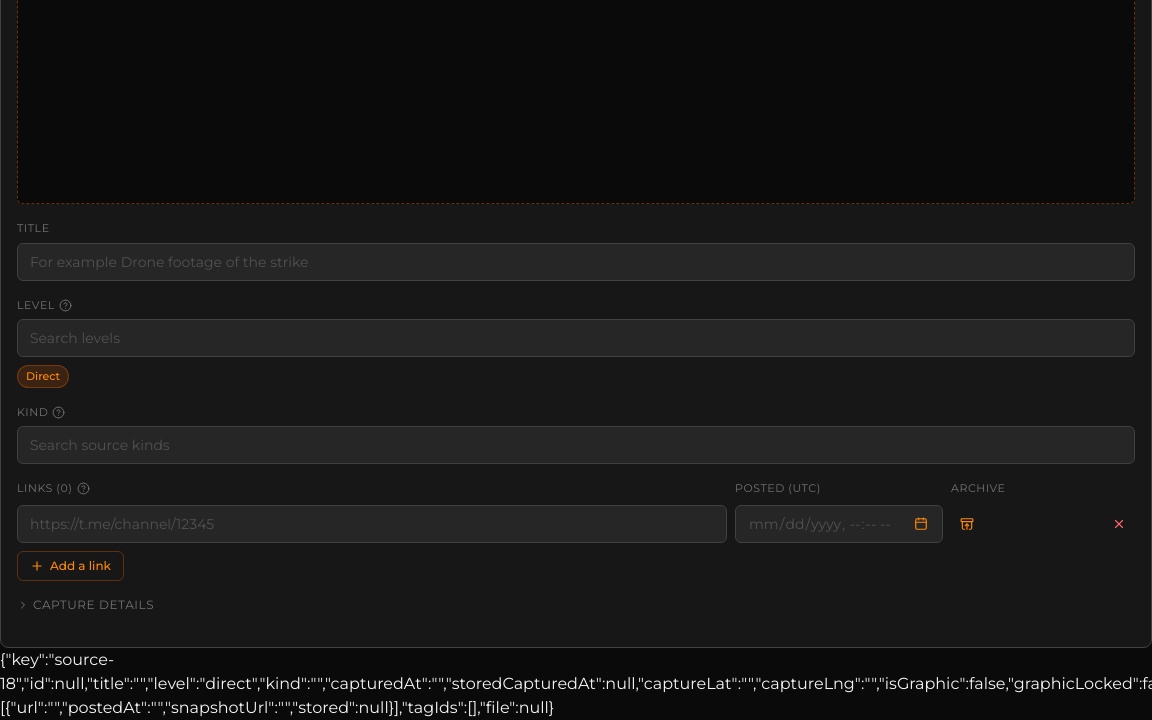
Test: SourceEditor › names each link by its position once the source holds several
(page scrolled)
What coordinates should you click on to do the following:
click the button with aria-label "Add a link to source 1"
I would click on:
 (70, 566)
Its box is top-left (17, 551), bottom-right (124, 581).
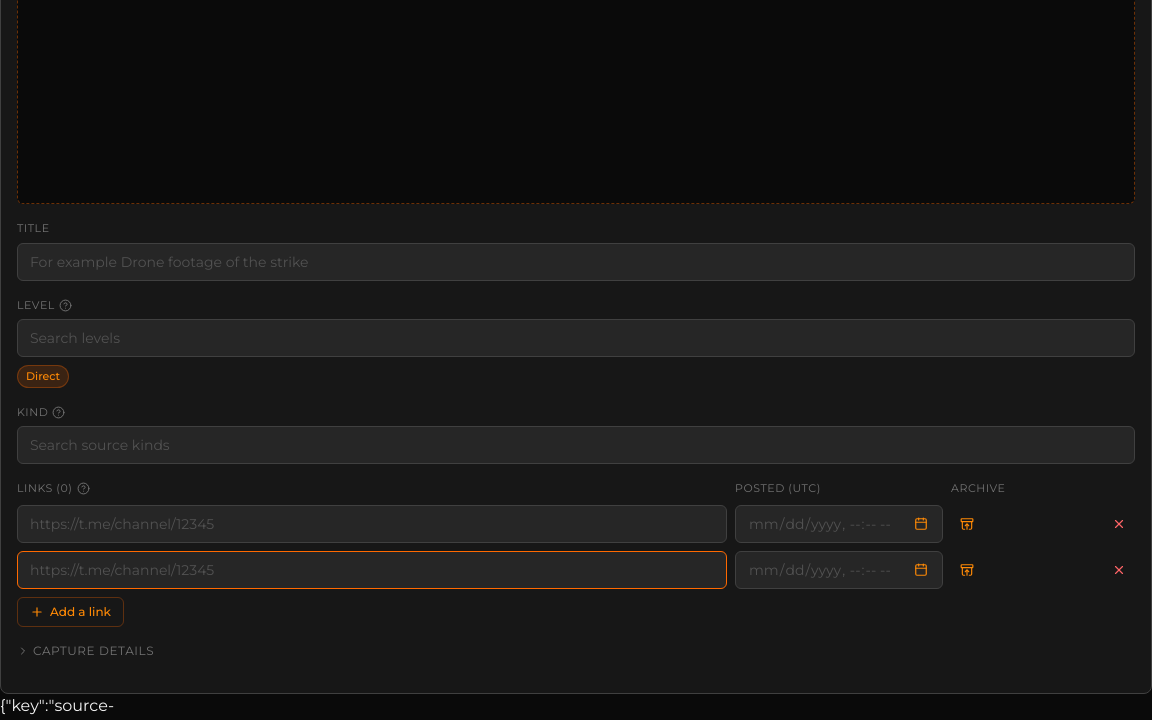
Check: the button named "Archive source 1, link 2, this link" is shown, box top-left (951, 554), bottom-right (983, 586)
